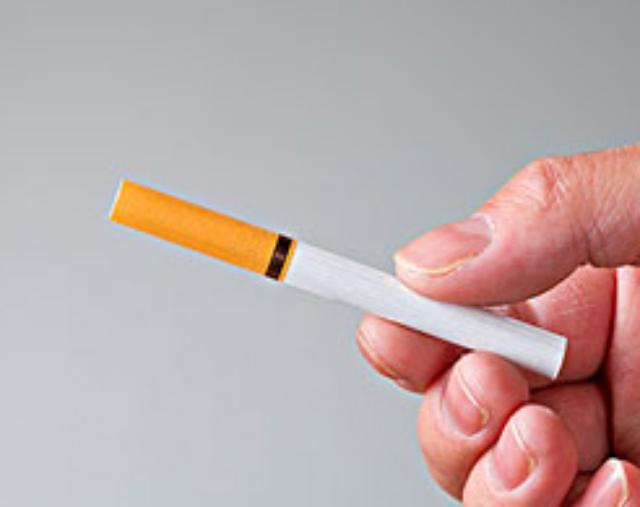Cigarette: (101, 172, 574, 382)
